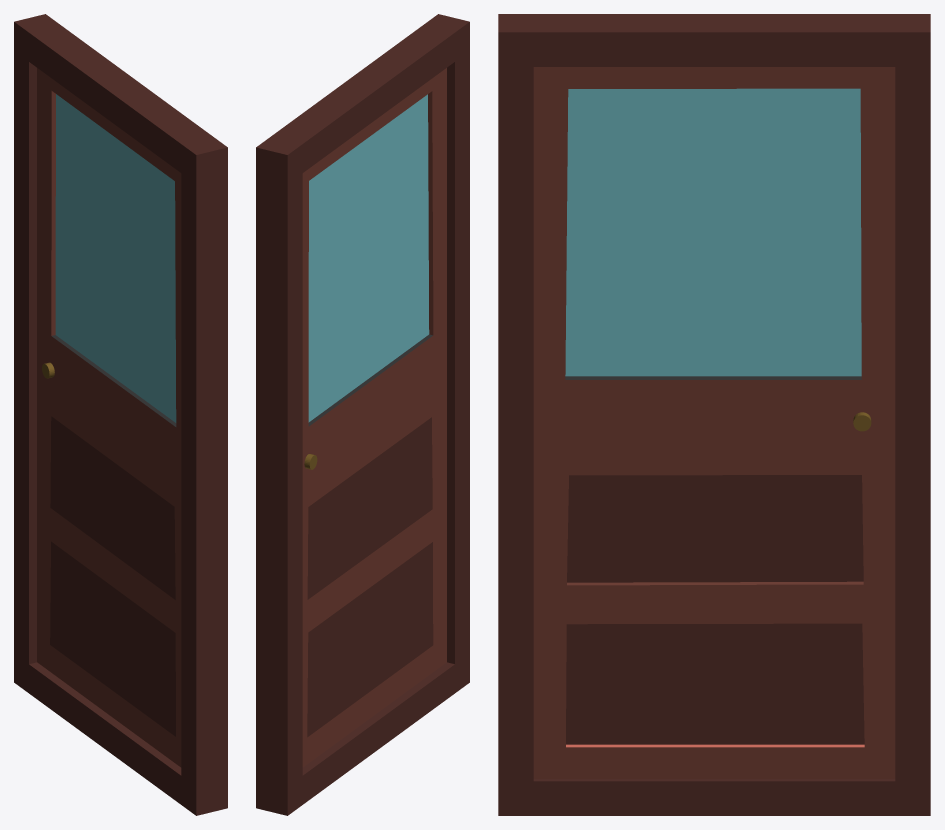
Rendered from Door.fbx.
3 renders of one model, left to right at view 1: azimuth 30°, elevation 25°; view 2: azimuth 150°, elevation 25°; view 3: azimuth 270°, elevation 25°, orthographic. The views are drawn at different scales.
Parts seen in each view (by area): view 1: Cube; view 2: Cube; view 3: Cube.
Part boxes in pixels (x1,y1,x2,y2): Cube: (14,14,227,815); Cube: (256,14,469,815); Cube: (498,14,930,815).
Size of the model in its own units: 41.59 by 800 by 400.
